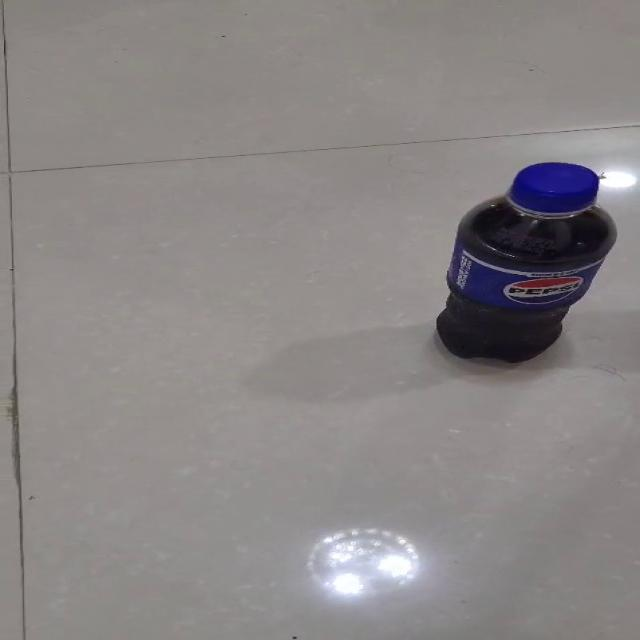plastic: (434, 160, 617, 363)
